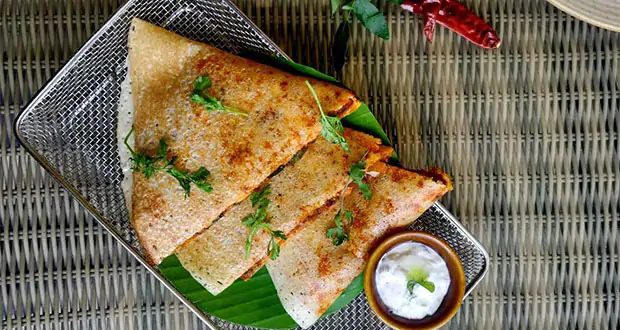dosa: (106, 17, 453, 330)
